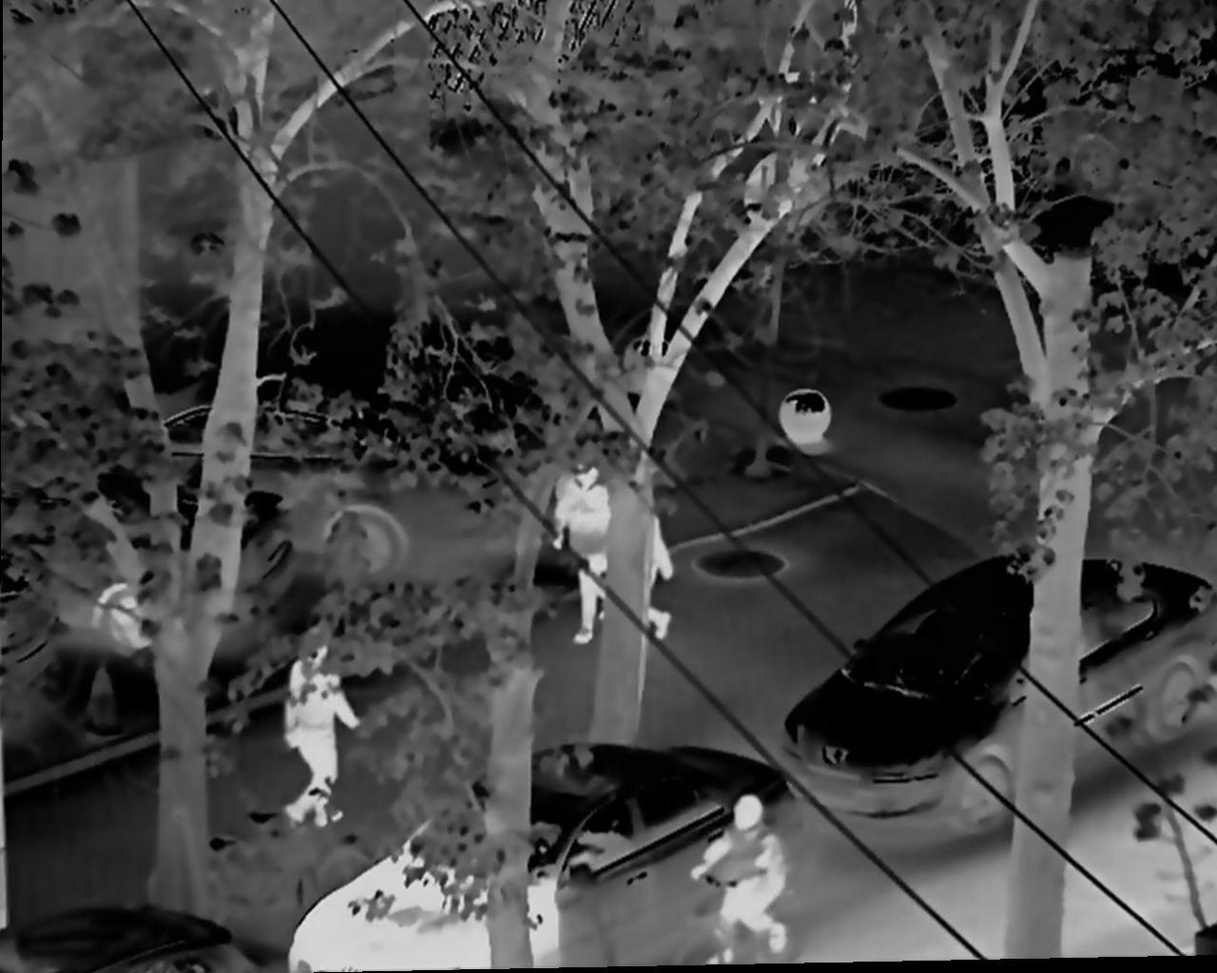person: (694, 777, 799, 963), (276, 634, 362, 845), (540, 440, 622, 649), (606, 496, 678, 652)
